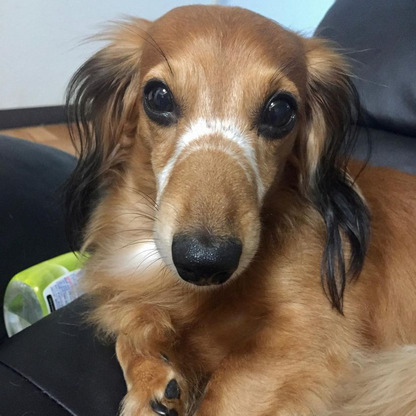dachshund: (75, 16, 380, 394)
